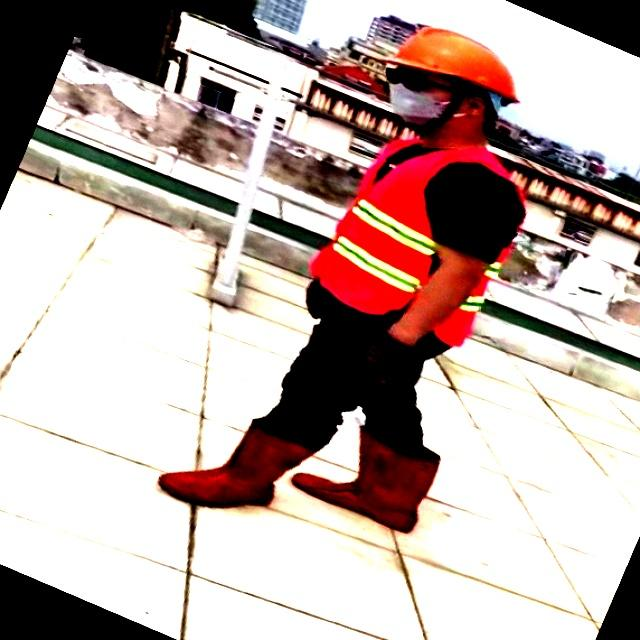helmet: (368, 20, 522, 104)
safety_vest: (308, 130, 518, 356)
